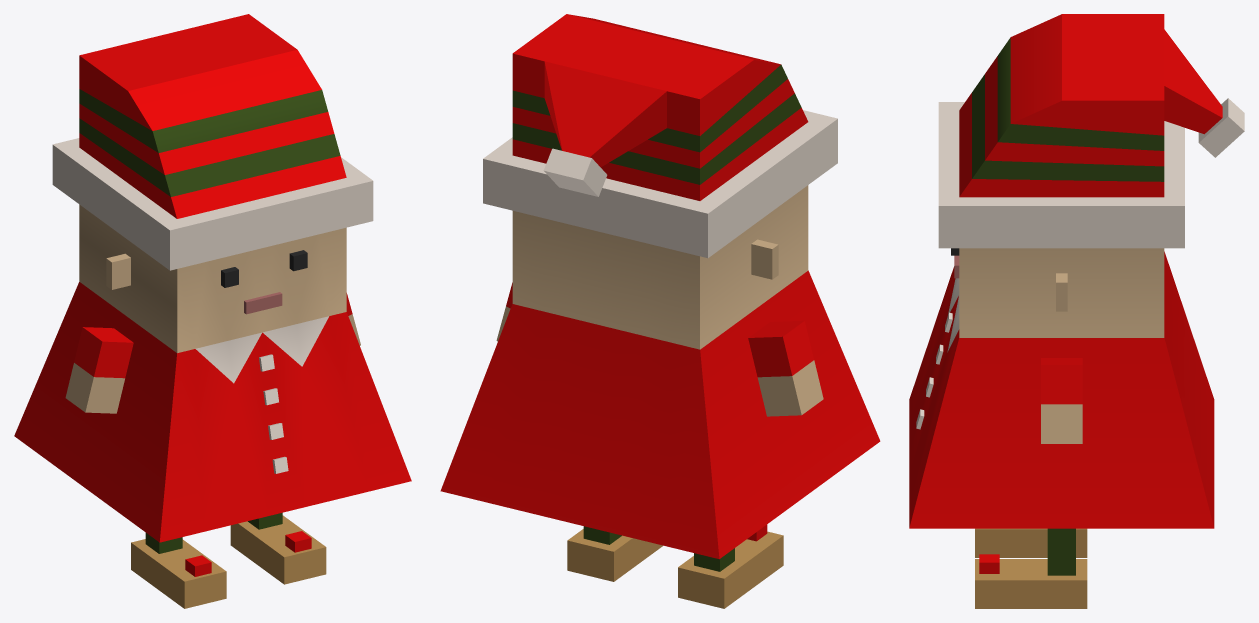
Rendered from 067 Santa_claus.fbx.
The picture shows the model from 3 angles, left to right: view 1: azimuth 30°, elevation 25°; view 2: azimuth 150°, elevation 25°; view 3: azimuth 270°, elevation 25°; orthographic projection. The views are drawn at different scales.
Visible parts, largest first — view 1: Lowpoly_Christmas_Pack_067:pCube19; view 2: Lowpoly_Christmas_Pack_067:pCube19; view 3: Lowpoly_Christmas_Pack_067:pCube19.
Part boxes in pixels (x1,y1,x2,y2): Lowpoly_Christmas_Pack_067:pCube19: [14, 14, 411, 608]; Lowpoly_Christmas_Pack_067:pCube19: [440, 14, 880, 608]; Lowpoly_Christmas_Pack_067:pCube19: [909, 14, 1244, 608].
Size of the model in its own units: 1.63 by 2.77 by 1.63.
